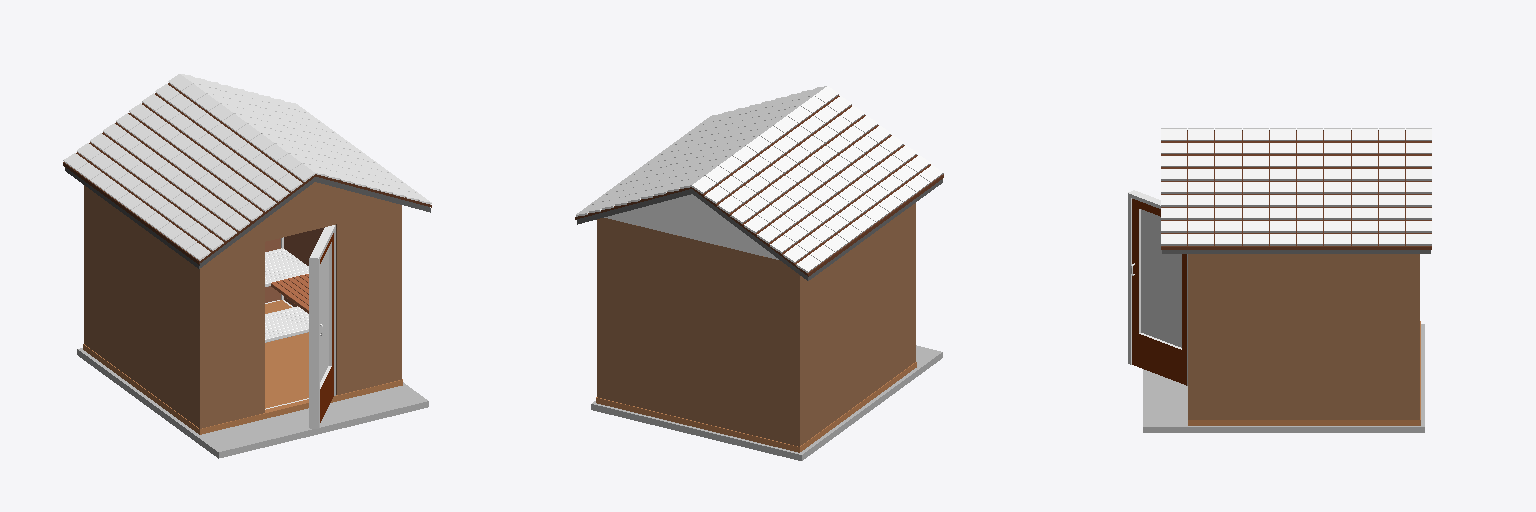
File: Sauna-3D.obj
The picture shows the model from 3 angles: view 1: azimuth 30°, elevation 25°; view 2: azimuth 150°, elevation 25°; view 3: azimuth 270°, elevation 25°; orthographic projection.
Visible parts, largest first — view 1: Cube, Cube.1, Cube.2, Cube.2_1_4, Polygon, Cube.2_11, Cube.2_1_5, Door_Glass, Cube.1_0, Cube.3_90, Cube.2_0_5; view 2: Cube, Polygon.1, Cube.1, Cube.2_1_4, Cube.2, Cube.2_1_5, Cube.2_0_5; view 3: Cube, Cube.2_0_4, Cube.1, Door_Glass, Cube.3_90, Cube.2, Cube.2_0_5, Cube.2_11.
Boxes of the visible parts, box(x1,y1,x2,y2) form: Cube: box(84, 185, 401, 428); Cube.1: box(77, 348, 428, 458); Cube.2: box(83, 300, 402, 434); Cube.2_1_4: box(63, 83, 315, 264); Polygon: box(240, 182, 389, 238); Cube.2_11: box(309, 225, 335, 428); Cube.2_1_5: box(65, 167, 314, 268); Door_Glass: box(320, 248, 328, 381); Cube.1_0: box(284, 227, 324, 306); Cube.3_90: box(320, 233, 333, 422); Cube.2_0_5: box(315, 177, 430, 212); Cube: box(597, 203, 915, 446); Polygon.1: box(604, 194, 778, 259); Cube.1: box(591, 345, 942, 460); Cube.2_1_4: box(692, 95, 943, 276); Cube.2: box(596, 362, 916, 452); Cube.2_1_5: box(692, 179, 942, 280); Cube.2_0_5: box(577, 189, 691, 224); Cube: box(1188, 254, 1419, 419); Cube.2_0_4: box(1161, 131, 1431, 249); Cube.1: box(1143, 324, 1424, 432); Door_Glass: box(1141, 209, 1181, 347); Cube.3_90: box(1132, 199, 1186, 385); Cube.2: box(1188, 321, 1420, 425); Cube.2_0_5: box(1162, 250, 1430, 253); Cube.2_11: box(1128, 190, 1187, 385).
Bounding box in the file's own units: 660 × 683 × 746.